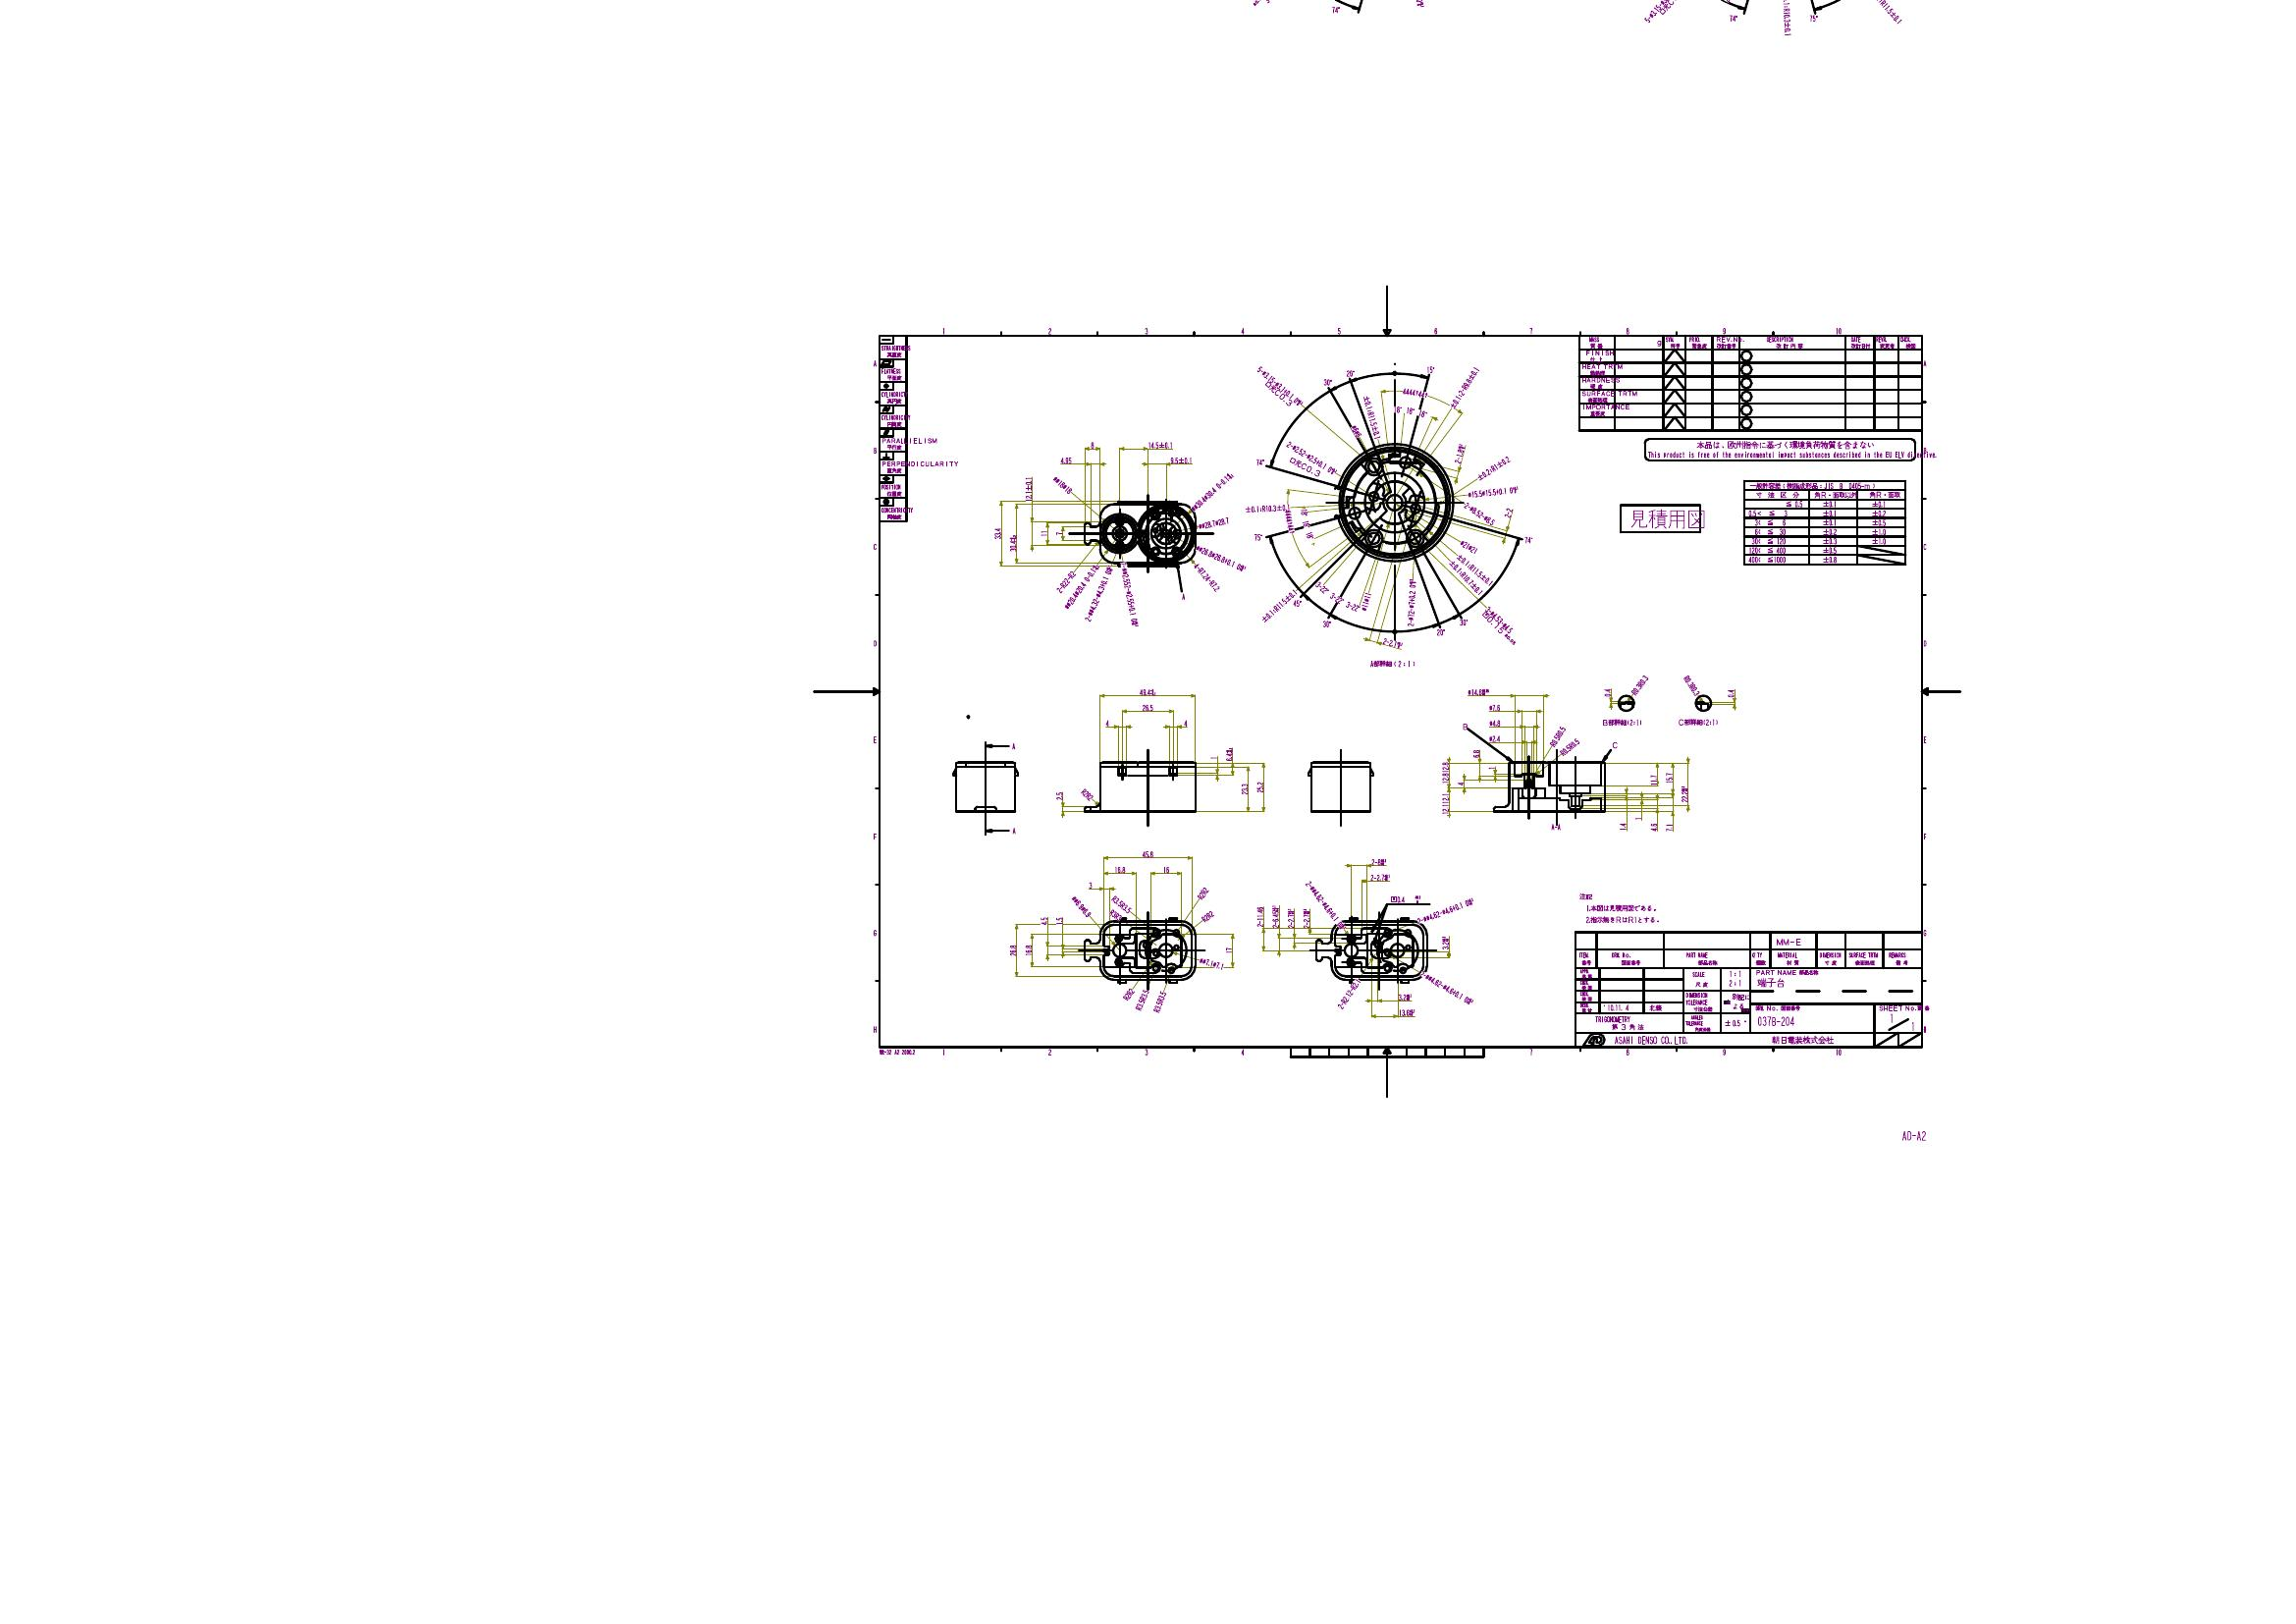anntotation_text: (1644, 438, 1917, 460), (1578, 891, 1662, 926), (1618, 504, 1700, 533), (1901, 1127, 1931, 1142), (1368, 659, 1418, 668), (1676, 717, 1718, 726), (1602, 717, 1641, 726), (878, 1049, 915, 1055), (1551, 823, 1560, 831), (1460, 722, 1467, 731), (1613, 740, 1618, 749), (1180, 592, 1186, 601), (1012, 826, 1015, 835), (1012, 742, 1015, 749)
dimension_text: (1279, 453, 1337, 473), (1249, 381, 1305, 395), (1479, 619, 1523, 633), (1312, 591, 1361, 603), (1094, 564, 1103, 624), (1124, 562, 1131, 629), (1414, 907, 1476, 914), (1407, 578, 1416, 626), (1321, 875, 1328, 933), (1418, 984, 1476, 991), (1442, 573, 1488, 582), (1184, 489, 1240, 496), (1367, 395, 1375, 439), (1193, 555, 1247, 562), (1467, 489, 1518, 496), (1460, 364, 1467, 411), (1451, 566, 1497, 573), (1256, 601, 1302, 608), (1390, 895, 1423, 903), (1079, 559, 1084, 613), (1245, 504, 1286, 511), (1474, 464, 1513, 471), (1460, 510, 1497, 517), (1330, 991, 1365, 998), (1189, 573, 1224, 580), (1395, 408, 1426, 415), (1303, 508, 1310, 540), (1108, 900, 1133, 909), (1147, 439, 1172, 448), (1024, 476, 1033, 501), (1170, 455, 1193, 464), (1440, 761, 1449, 782), (1198, 960, 1224, 967), (1627, 682, 1651, 689), (1063, 569, 1070, 594), (1049, 482, 1073, 489), (1198, 520, 1230, 526), (1404, 388, 1426, 395), (1381, 640, 1404, 647), (1688, 673, 1695, 696), (1558, 743, 1581, 750), (1553, 726, 1560, 749), (1467, 689, 1490, 696), (1272, 905, 1279, 928), (1156, 991, 1163, 1014), (1458, 543, 1479, 550), (1442, 793, 1449, 814), (1138, 990, 1145, 1011), (1679, 786, 1688, 801), (1398, 1007, 1414, 1016), (1456, 445, 1463, 464), (1370, 874, 1390, 881), (1302, 909, 1309, 928), (1256, 907, 1263, 926), (1079, 893, 1084, 917), (1286, 508, 1291, 533), (1363, 592, 1370, 610), (1440, 935, 1449, 949), (1140, 849, 1154, 858), (1224, 747, 1233, 761), (1008, 534, 1015, 552), (993, 526, 1001, 540), (1288, 907, 1293, 928), (1351, 425, 1360, 438), (1059, 455, 1072, 464), (1372, 858, 1386, 865), (1398, 993, 1412, 1000), (1108, 910, 1123, 917), (1200, 886, 1207, 900), (1256, 780, 1263, 794), (1140, 703, 1154, 710), (1523, 534, 1534, 543), (1138, 689, 1156, 694), (1665, 772, 1672, 784), (1650, 773, 1657, 786), (1488, 719, 1500, 726), (1488, 735, 1500, 742), (1124, 988, 1131, 1000), (1205, 910, 1212, 923), (1024, 944, 1031, 956), (1008, 944, 1015, 956), (1240, 784, 1247, 796), (1080, 791, 1093, 798), (1504, 508, 1513, 517), (1425, 364, 1433, 373), (1323, 378, 1332, 387), (1256, 457, 1265, 466), (1254, 533, 1263, 541), (1725, 689, 1734, 698), (1664, 823, 1672, 831), (1618, 823, 1627, 831), (1054, 791, 1063, 800), (1604, 687, 1611, 698), (1114, 866, 1124, 874), (1488, 705, 1500, 710), (1346, 369, 1354, 376), (1293, 599, 1302, 606), (1323, 620, 1332, 627), (1458, 619, 1467, 626), (1437, 627, 1446, 634), (1650, 823, 1657, 831), (1472, 749, 1479, 758), (1224, 944, 1231, 953), (1056, 916, 1063, 924), (1040, 916, 1047, 924), (1163, 865, 1170, 874), (1182, 719, 1188, 728), (1634, 816, 1641, 821), (1456, 780, 1463, 786), (1040, 531, 1047, 536), (1089, 441, 1094, 448), (1105, 717, 1108, 726), (1054, 531, 1063, 534), (1488, 765, 1495, 768), (1087, 882, 1091, 889)
object: (1335, 443, 1455, 561), (1314, 917, 1426, 984), (1084, 501, 1196, 568), (1082, 917, 1196, 982), (1491, 759, 1606, 812), (1084, 761, 1196, 814), (952, 759, 1017, 814), (1307, 761, 1374, 814), (1616, 694, 1634, 712), (1693, 694, 1713, 710)
title_block: (1574, 932, 1922, 1048), (1578, 334, 1922, 431), (1743, 480, 1906, 566), (878, 334, 906, 522)
